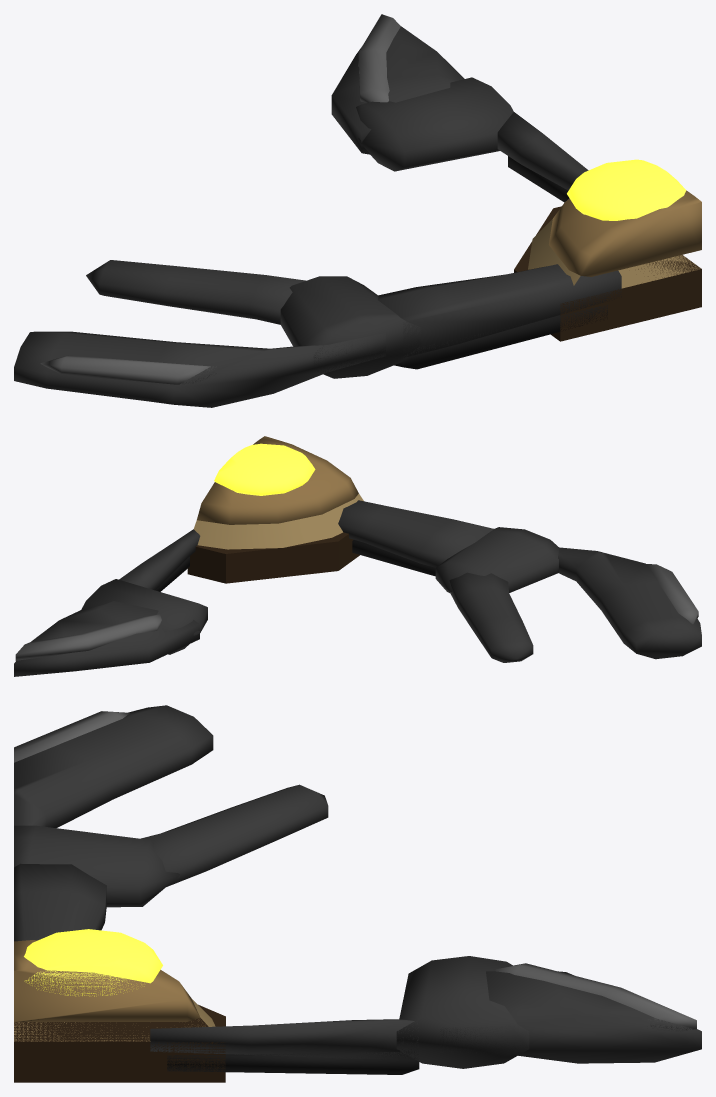
The model's file is newsh-hash-1-f5.glb.
The picture shows the model from 3 angles, top to bottom: view 1: azimuth 30°, elevation 25°; view 2: azimuth 150°, elevation 25°; view 3: azimuth 270°, elevation 25°; orthographic projection. The views are drawn at different scales.
Visible parts, largest first — view 1: newsh-hash-1-f5; view 2: newsh-hash-1-f5; view 3: newsh-hash-1-f5.
Boxes of the visible parts, x1,y1,x2,y2 form: newsh-hash-1-f5: (14,14,701,407); newsh-hash-1-f5: (14,436,701,676); newsh-hash-1-f5: (14,705,701,1082).
Size of the model in its own units: 1.72 by 0.295 by 1.54.
